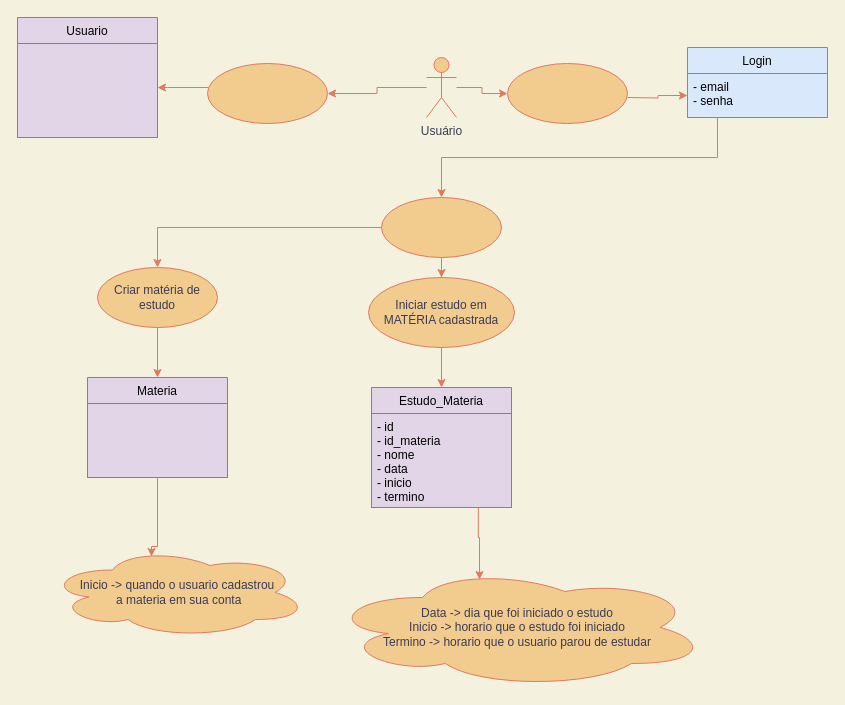
Some shapes in this 845 by 705 pixel diagram are drawn without their labels. The centre of each missing label's shape, as x and y in pixels:
"- id - id_usuario - nome - inicio" goes at point 157,440.
"- id - nome - idade - email - senha - foto" goes at point 87,90.
"Criar conta" goes at point 267,93.
"Logado" goes at point 441,227.
"Logar" goes at point 567,93.
